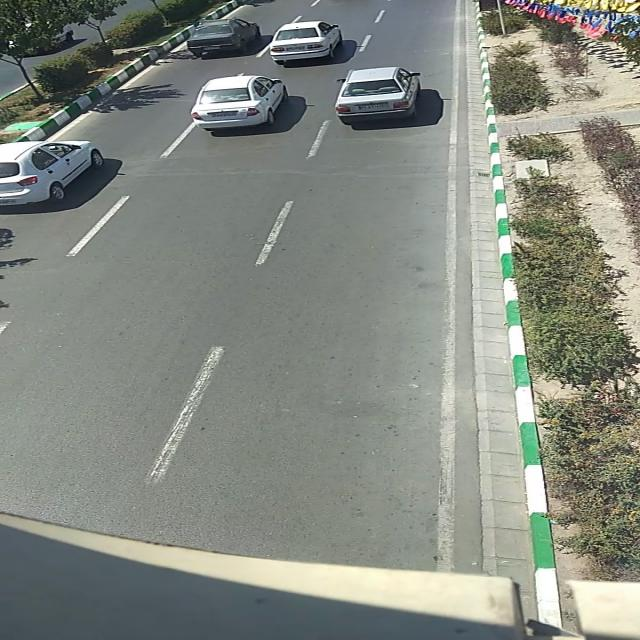car: (0, 140, 107, 206), (190, 75, 289, 133), (335, 65, 427, 125), (273, 20, 341, 66), (187, 15, 260, 57)
